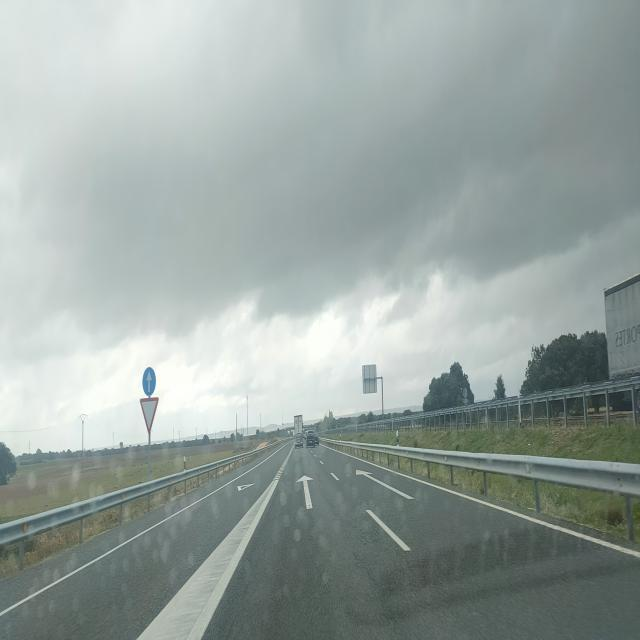Poth-hole: (224, 610, 239, 640), (244, 577, 252, 596), (254, 552, 261, 568), (263, 530, 268, 548)
